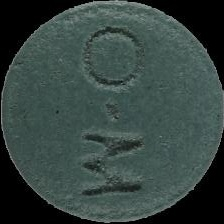50458-251: (0, 0, 224, 224)
